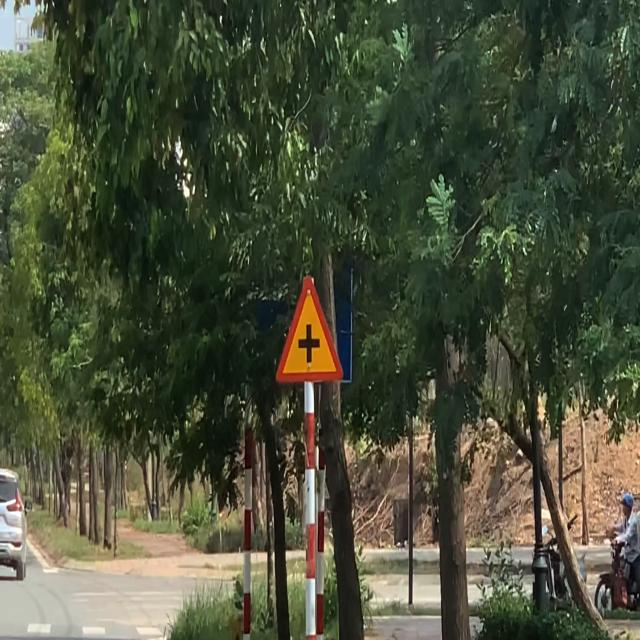Duong giao nhau: (274, 266, 349, 392)
